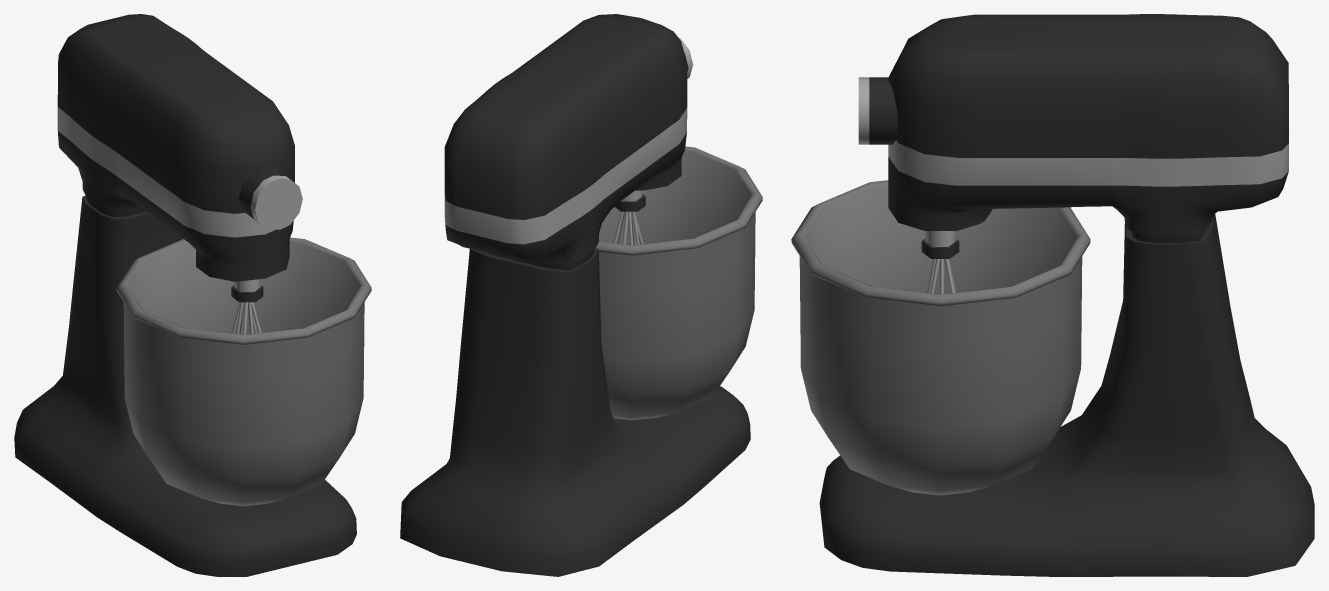
File: ElectricMixerStand_01.fbx
3 renders of one model, left to right at view 1: azimuth 30°, elevation 25°; view 2: azimuth 150°, elevation 25°; view 3: azimuth 270°, elevation 25°, orthographic. The views are drawn at different scales.
Visible parts, largest first — view 1: ElectricMixerStand_01_Bowl, ElectricMixerStand_01_Top, ElectricMixerStand_01, ElectricMixerStand_01_Whisk; view 2: ElectricMixerStand_01, ElectricMixerStand_01_Top, ElectricMixerStand_01_Bowl, ElectricMixerStand_01_Whisk; view 3: ElectricMixerStand_01, ElectricMixerStand_01_Top, ElectricMixerStand_01_Bowl, ElectricMixerStand_01_Whisk.
Part boxes in pixels (bbox=[...]): ElectricMixerStand_01_Bowl: bbox=[116, 237, 371, 506]; ElectricMixerStand_01_Top: bbox=[57, 14, 302, 291]; ElectricMixerStand_01: bbox=[14, 195, 356, 576]; ElectricMixerStand_01_Whisk: bbox=[231, 285, 263, 334]; ElectricMixerStand_01: bbox=[400, 248, 750, 576]; ElectricMixerStand_01_Top: bbox=[444, 14, 693, 264]; ElectricMixerStand_01_Bowl: bbox=[596, 146, 762, 420]; ElectricMixerStand_01_Whisk: bbox=[613, 194, 645, 245]; ElectricMixerStand_01: bbox=[819, 214, 1314, 576]; ElectricMixerStand_01_Top: bbox=[858, 14, 1288, 246]; ElectricMixerStand_01_Bowl: bbox=[791, 180, 1090, 495]; ElectricMixerStand_01_Whisk: bbox=[921, 239, 959, 294].
Size of the model in its own units: 0.2595 by 0.467 by 0.4538.
